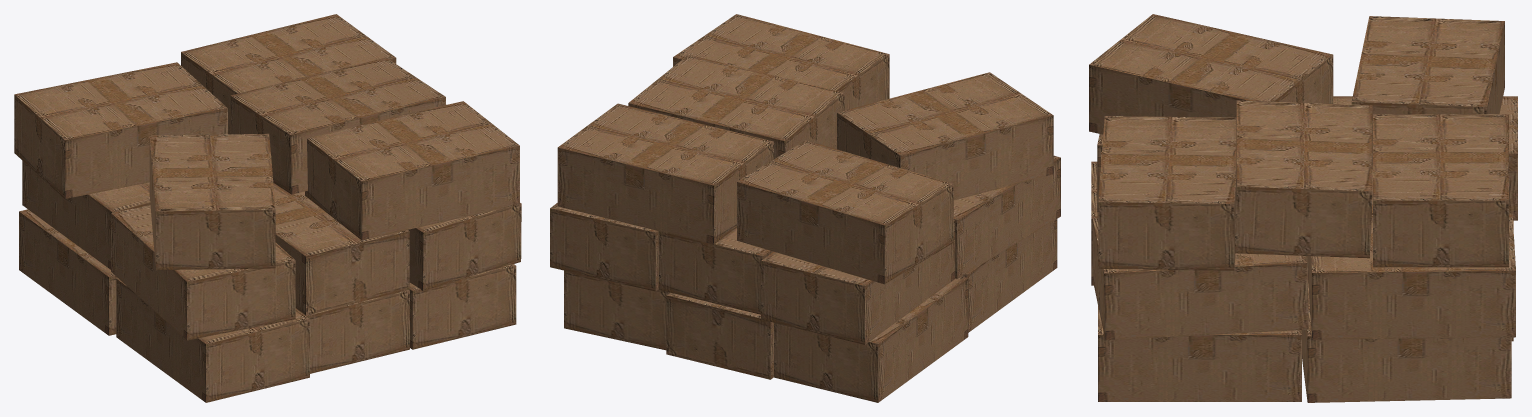
Rendered from Prop_Carton2.glb.
3 views of the same model, side by side, from view 1: azimuth 30°, elevation 25°; view 2: azimuth 150°, elevation 25°; view 3: azimuth 270°, elevation 25° (orthographic). The views are drawn at different scales.
Visible parts, largest first — view 1: xiutz_carton2; view 2: xiutz_carton2; view 3: xiutz_carton2.
Part boxes in pixels (<box>): xiutz_carton2: <box>14,14,521,402</box>; xiutz_carton2: <box>550,14,1060,402</box>; xiutz_carton2: <box>1089,14,1517,402</box>.
Size of the model in its own units: 3.22 by 1.65 by 3.04.
1 material, 1 textured.
